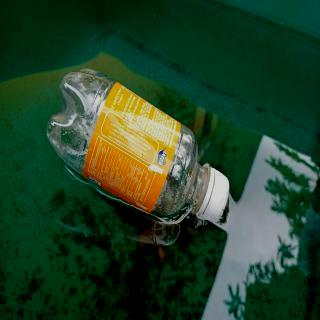bottle: (42, 65, 232, 226)
